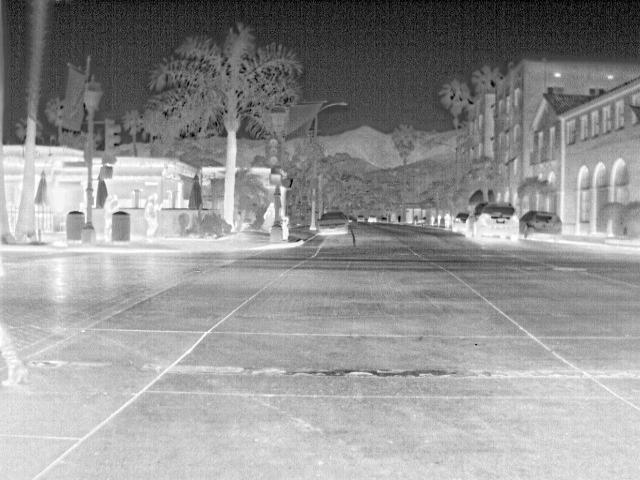car: (467, 200, 522, 241), (519, 209, 564, 244), (315, 210, 351, 236), (452, 212, 468, 232)
person: (103, 192, 120, 236), (143, 194, 159, 240), (261, 200, 277, 232), (443, 211, 453, 231)
